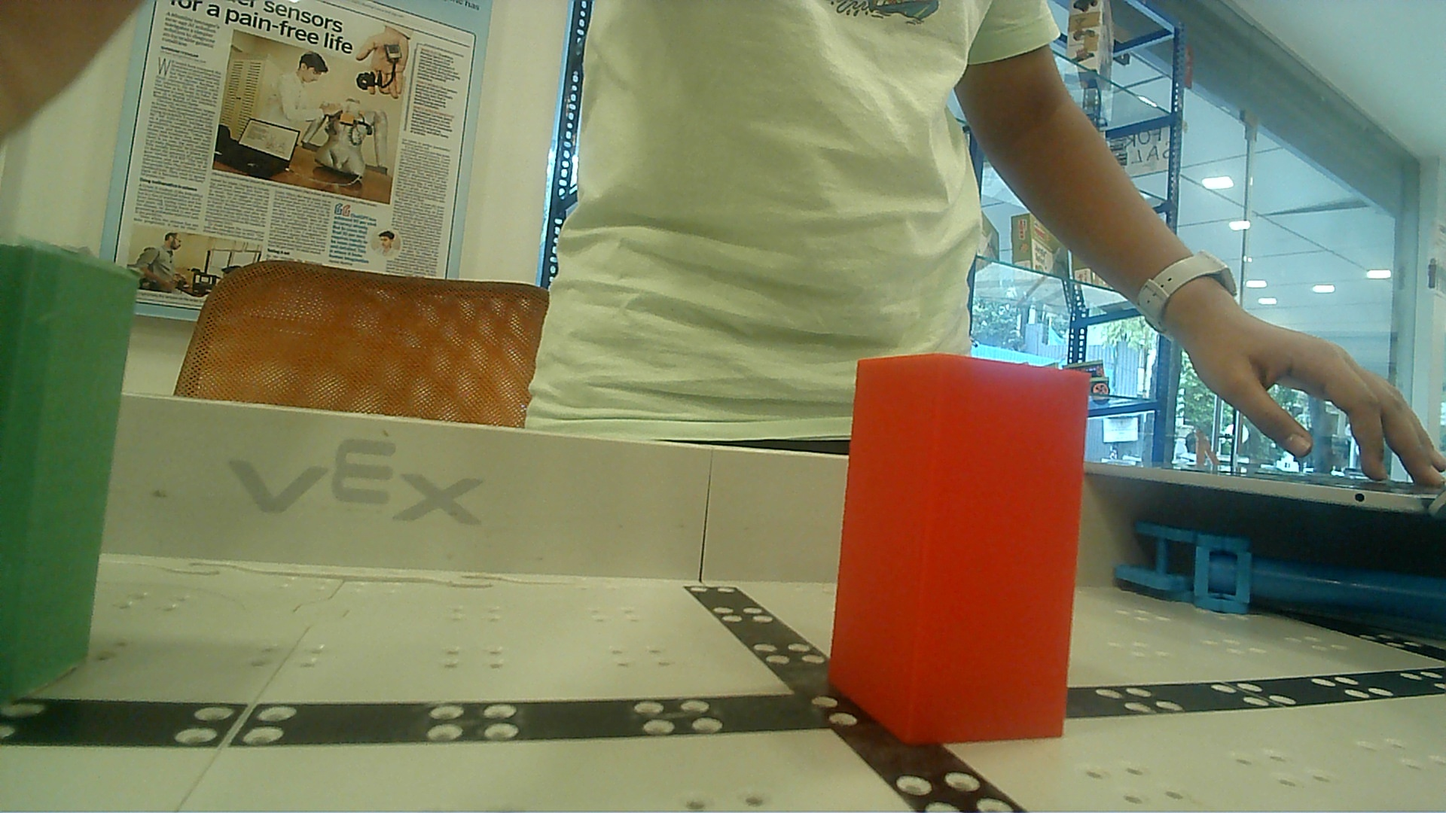red: (804, 358, 1136, 747)
